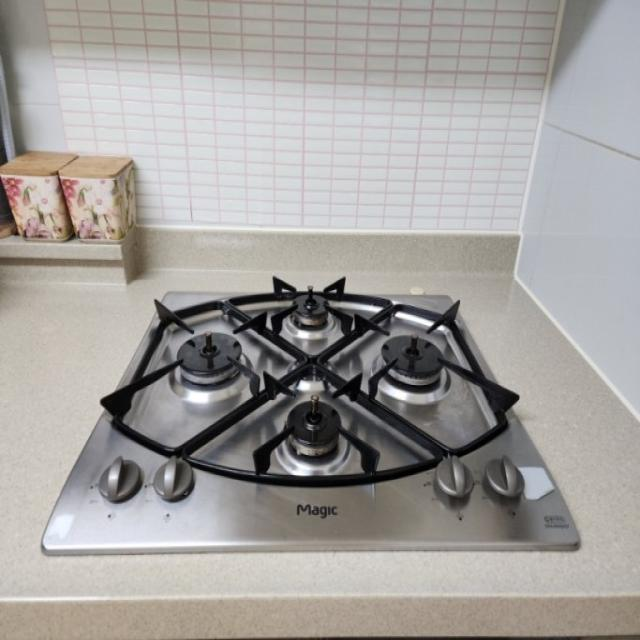knob_ON: (127, 261, 510, 483)
